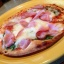ham: (14, 8, 50, 24), (2, 27, 16, 47), (35, 26, 56, 39), (16, 34, 33, 50)
pizza: (1, 2, 63, 55)
